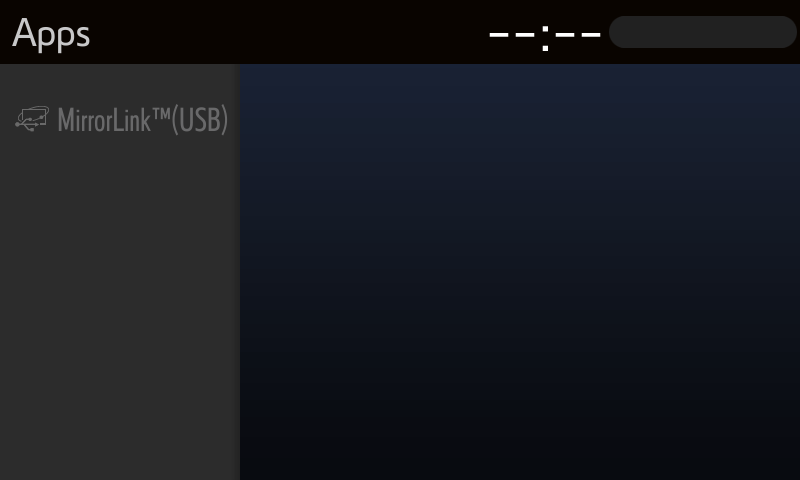untouchPart: (477, 4, 800, 58), (13, 98, 230, 147), (12, 14, 94, 57)
